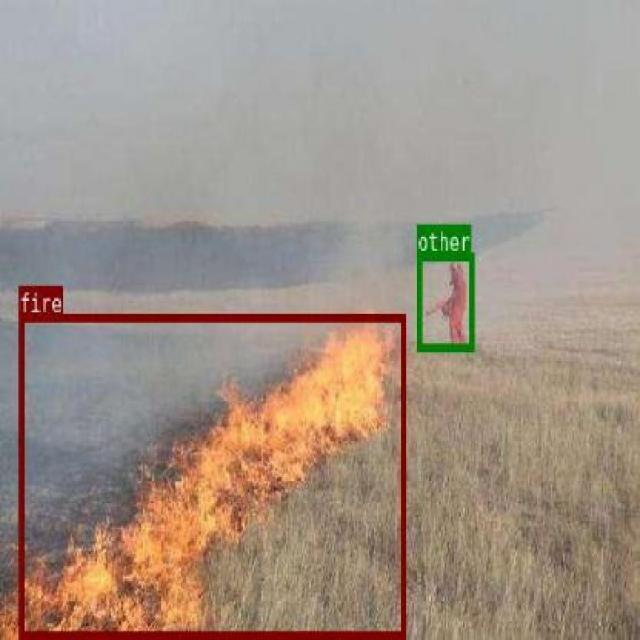fire: (18, 314, 404, 637)
